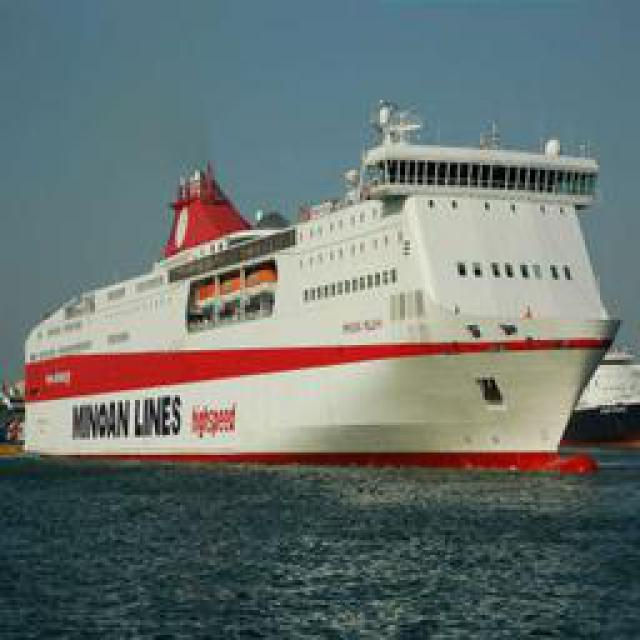Ship: (20, 133, 623, 478)
